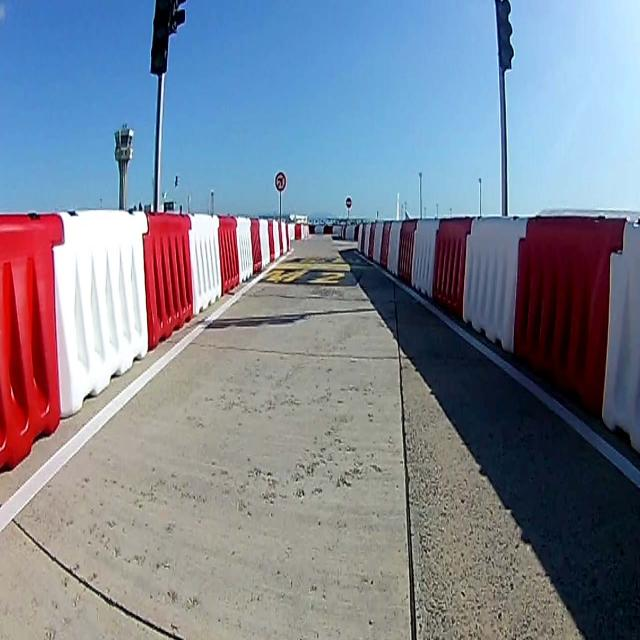soladonulmez: (276, 173, 286, 191)
